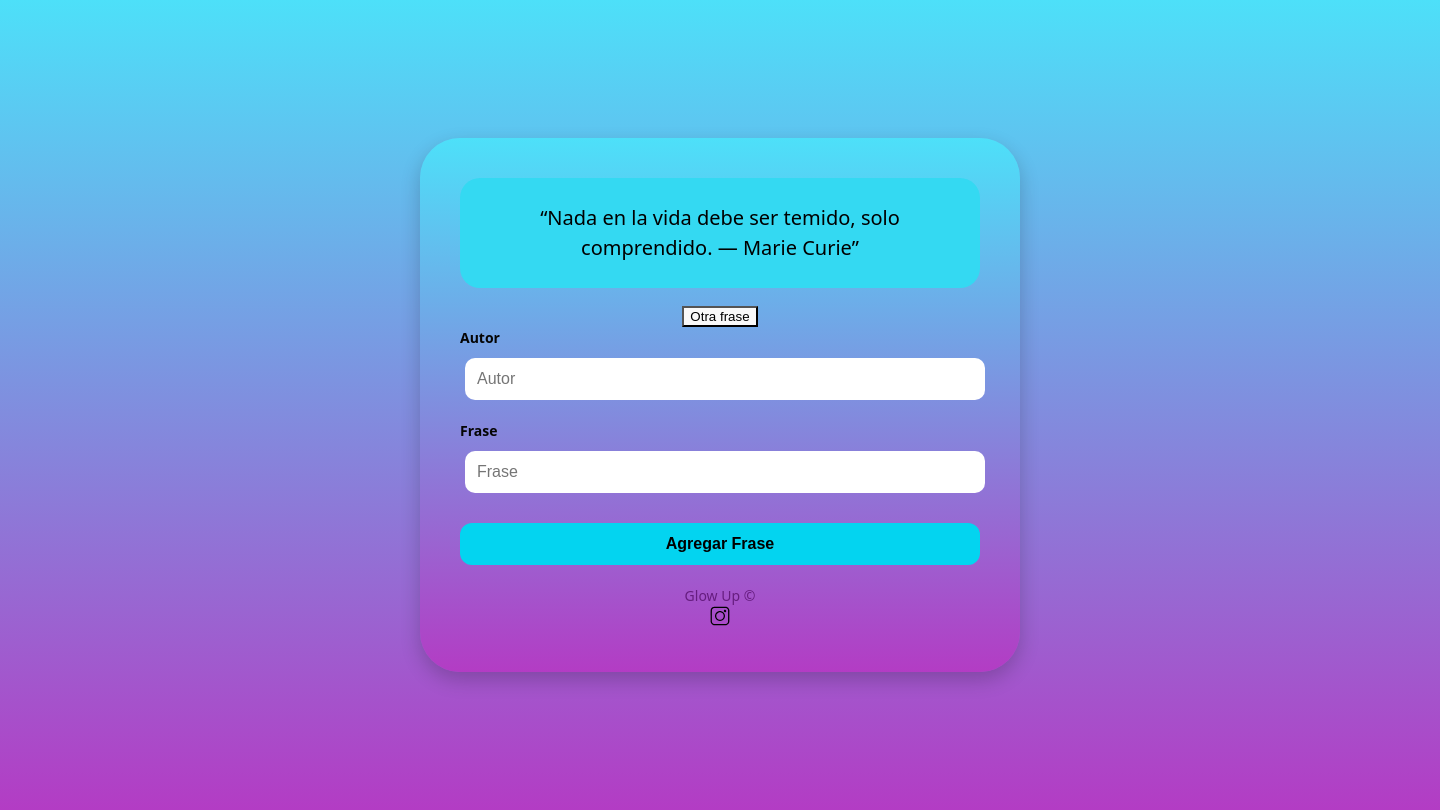
Test: MotivationalPhrases › permite editar una frase
In the field labelled "Autor": (725, 379) [465,358,985,400], type "Marie"
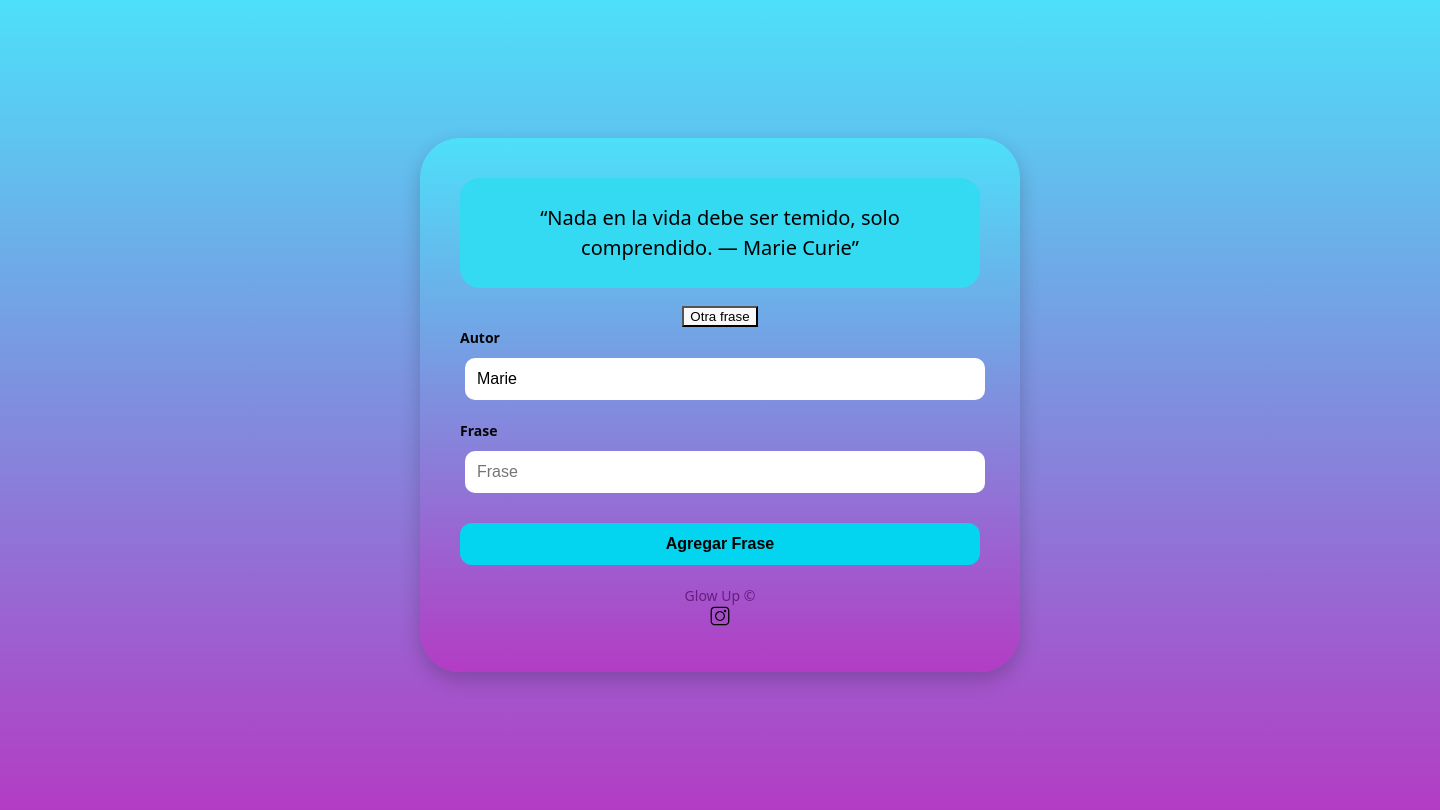
In the field labelled "Frase": (725, 472) [465,451,985,493], type "Original"
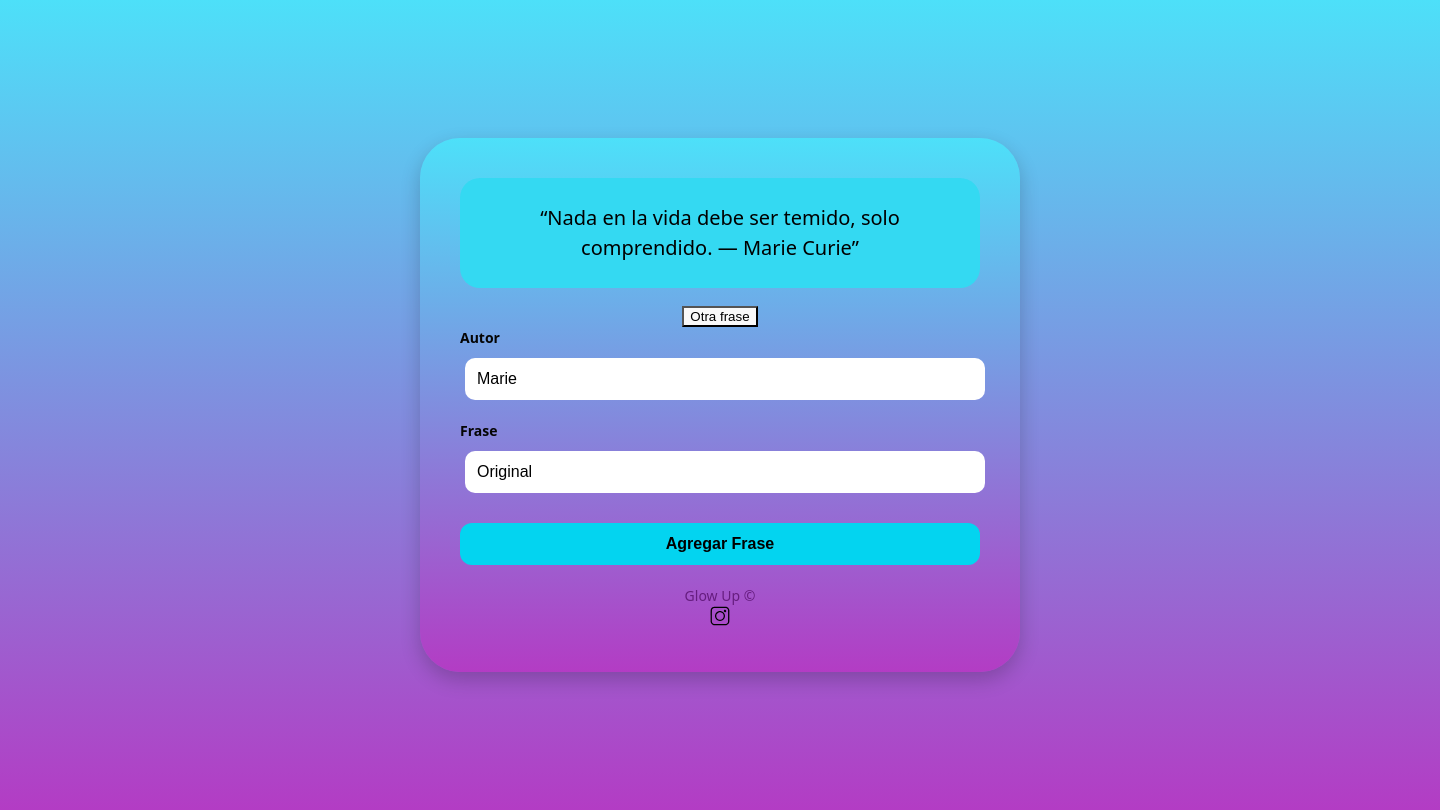
Click the button "Agregar Frase": (720, 544) [460,523,980,565]
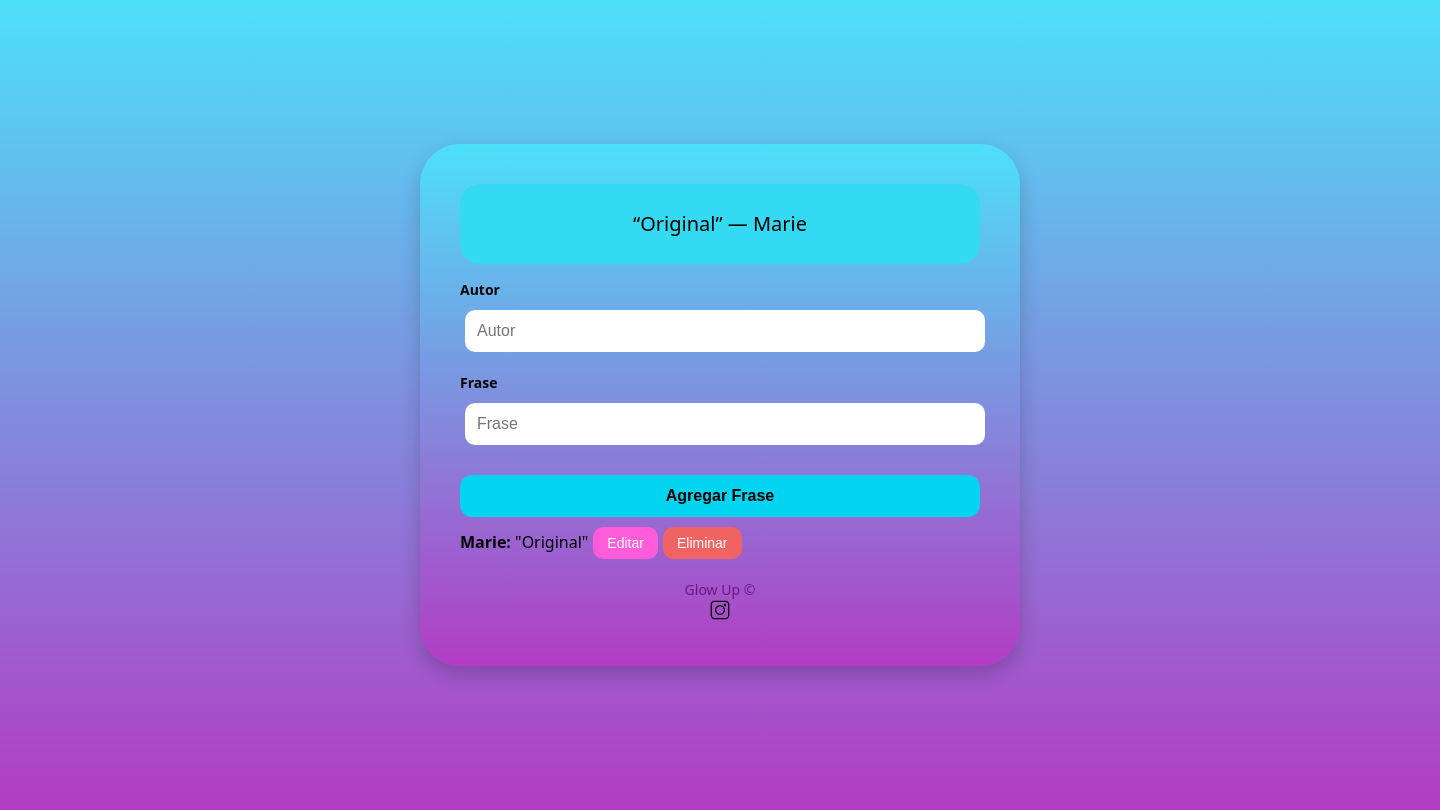
Click the button "Editar": (626, 543) [593,527,658,559]
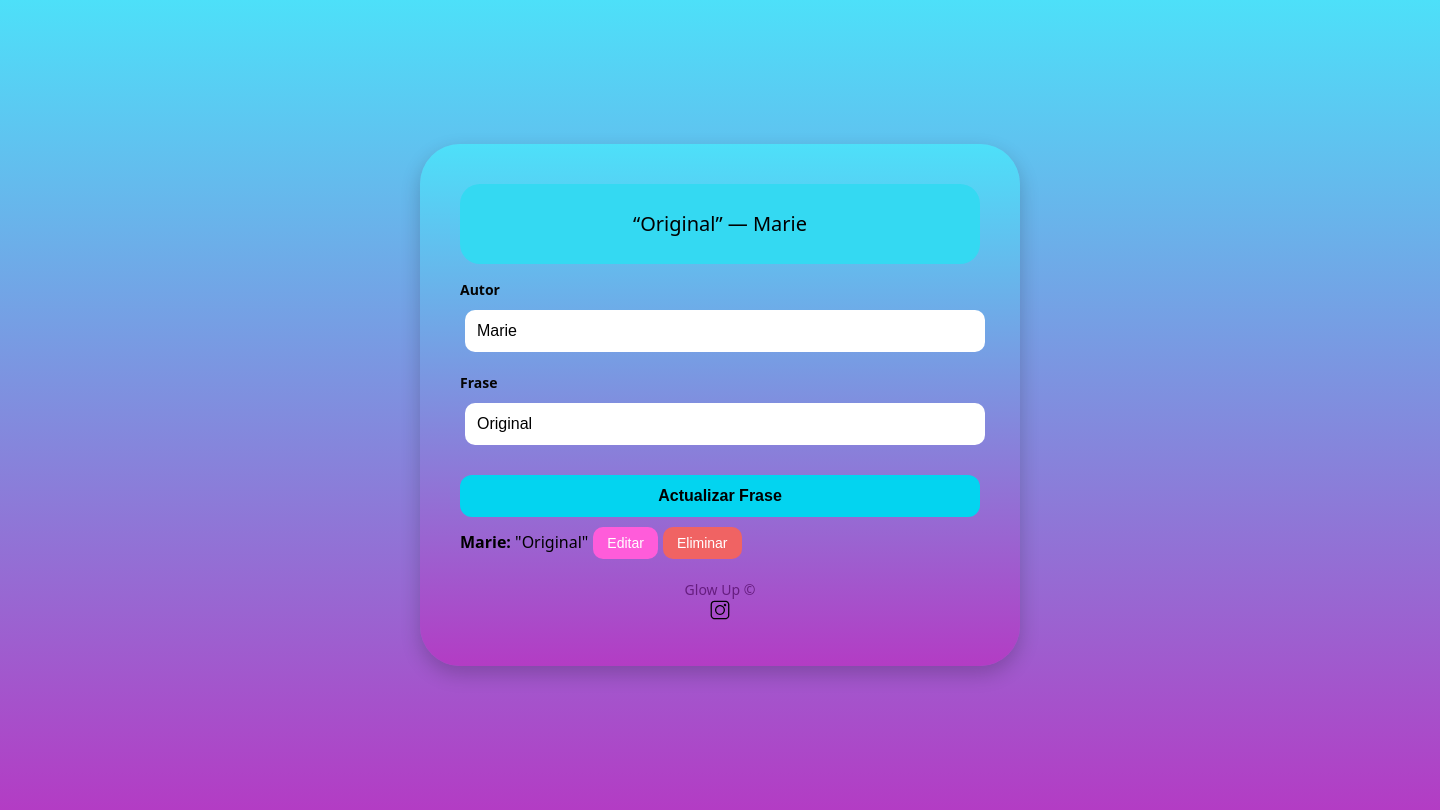
Replace the text in the field labelled "Frase" with "Editado": (725, 424) [465,403,985,445]
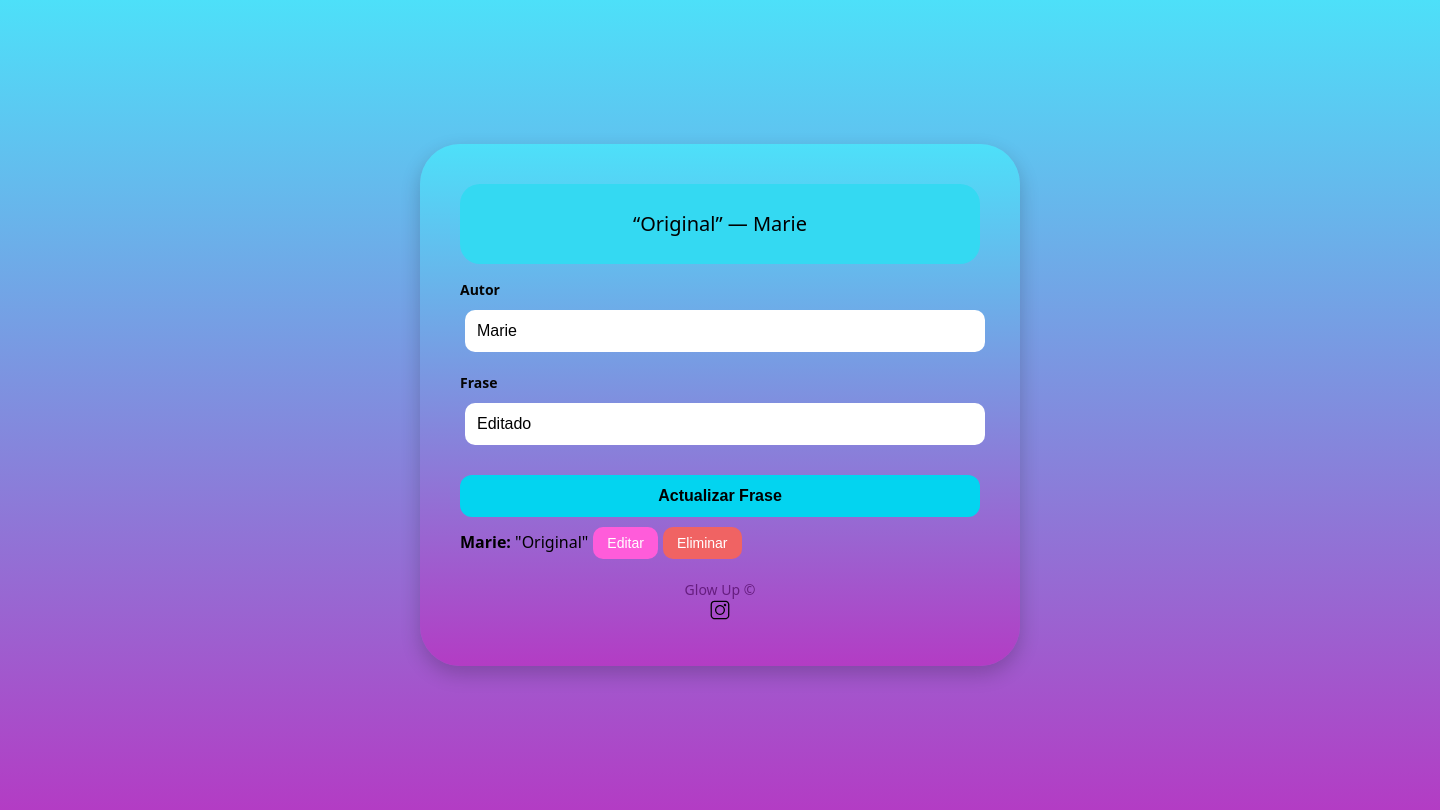
Click the button "Actualizar Frase": (720, 496) [460,475,980,517]
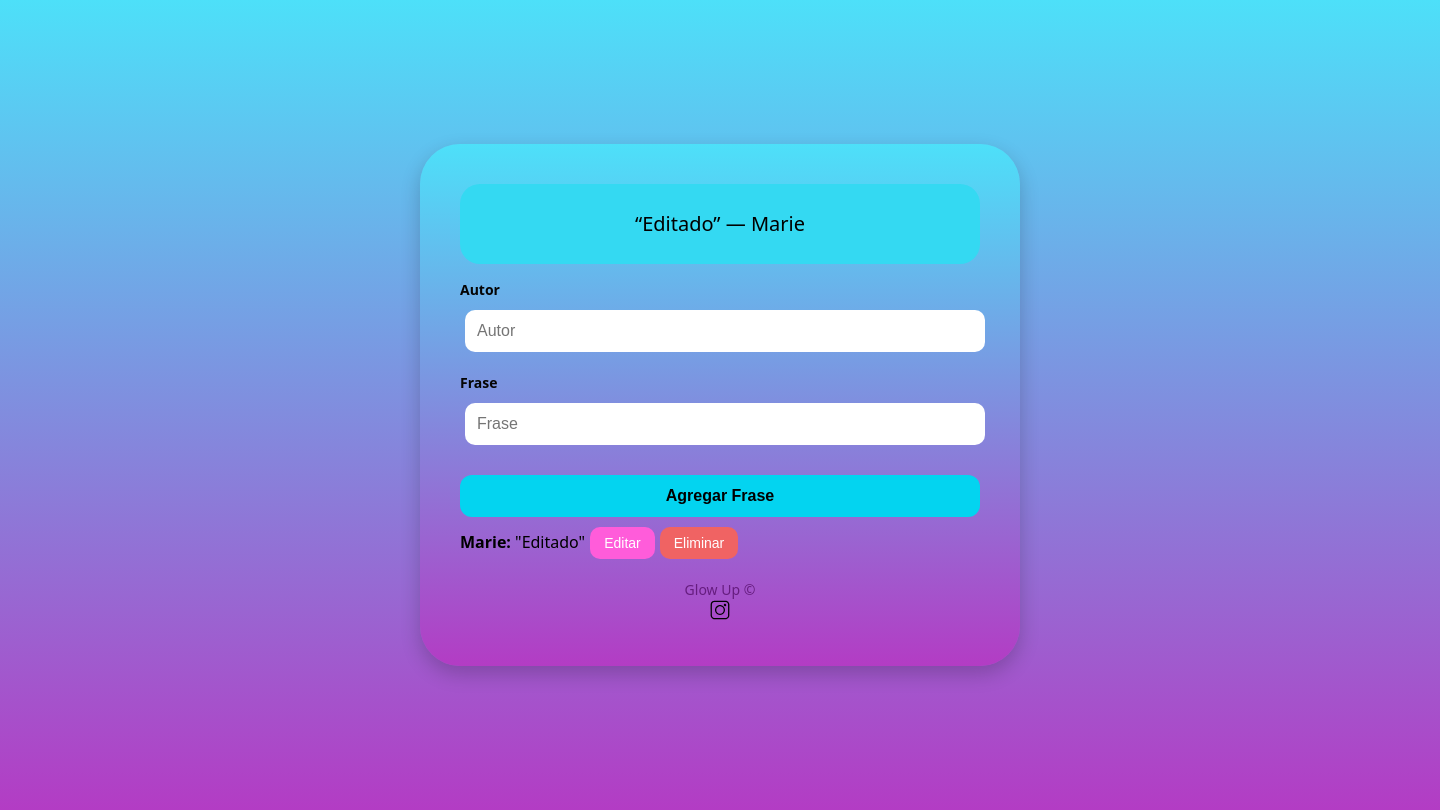
Now the text "Original" is gone
Now the list item "Marie: \"Editado\" Editar Eliminar" is shown, box [460,527,738,559]
